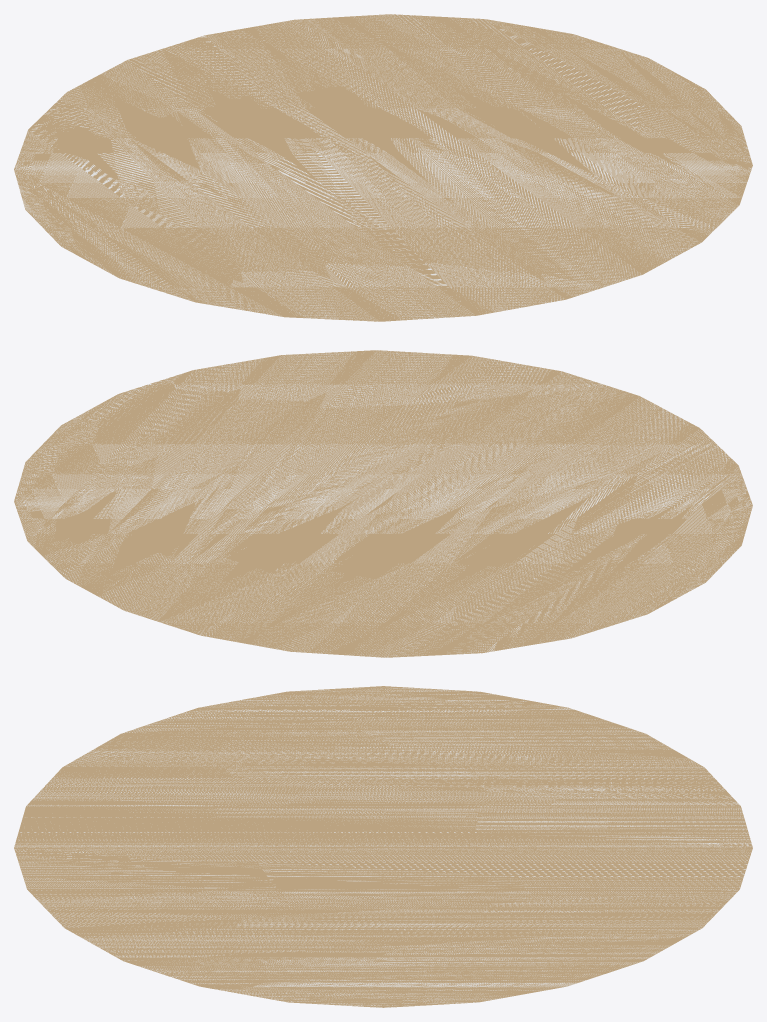
The model's file is original-54.obj.
3 views of the same model, one above another, from view 1: azimuth 30°, elevation 25°; view 2: azimuth 150°, elevation 25°; view 3: azimuth 270°, elevation 25° (orthographic). The views are drawn at different scales.
Parts seen in each view (by area): view 1: #ID368; view 2: #ID368; view 3: #ID368.
Part boxes in pixels (bbox=[...]): #ID368: bbox=[14, 14, 752, 321]; #ID368: bbox=[14, 350, 752, 657]; #ID368: bbox=[14, 686, 752, 1007].
Size of the model in its own units: 0.0142 by 0 by 0.0138.
